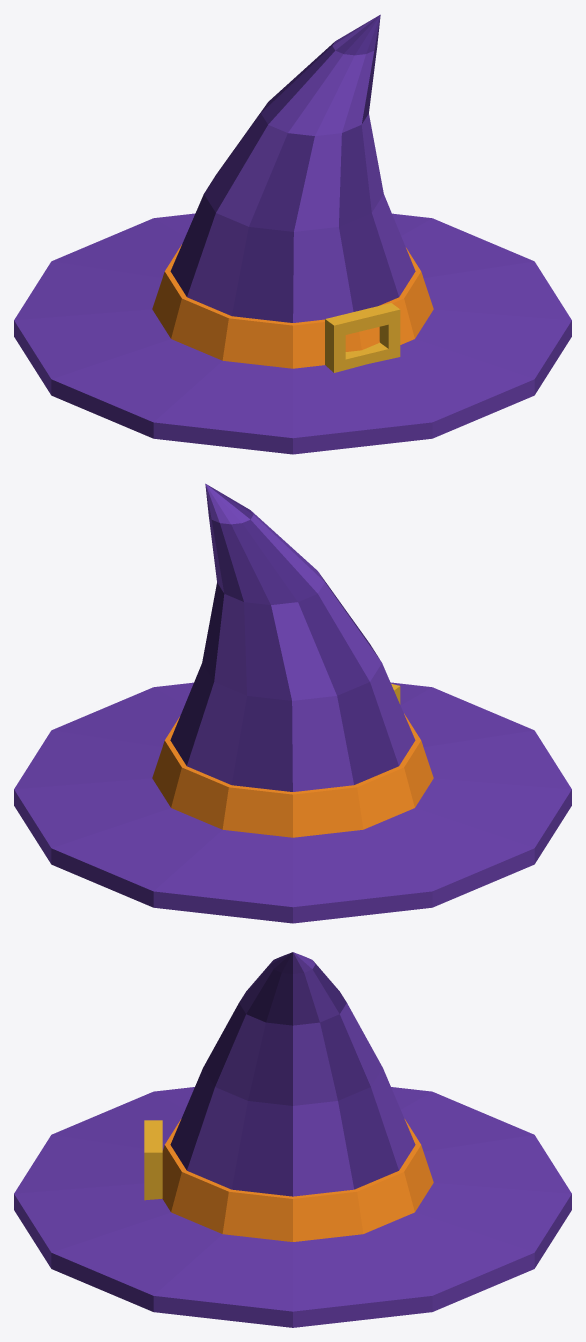
The model's file is witch-hat-1x1.glb.
3 renders of one model, top to bottom at view 1: azimuth 30°, elevation 25°; view 2: azimuth 150°, elevation 25°; view 3: azimuth 270°, elevation 25°, orthographic.
Parts seen in each view (by area): view 1: witch-hat-1x1; view 2: witch-hat-1x1; view 3: witch-hat-1x1.
Boxes of the visible parts, <box> form: witch-hat-1x1: <box>14,14,571,454</box>; witch-hat-1x1: <box>14,483,571,923</box>; witch-hat-1x1: <box>14,952,571,1327</box>.
Bounding box in the file's own units: 0.8 × 0.4758 × 0.8.
1 material, 1 textured.
